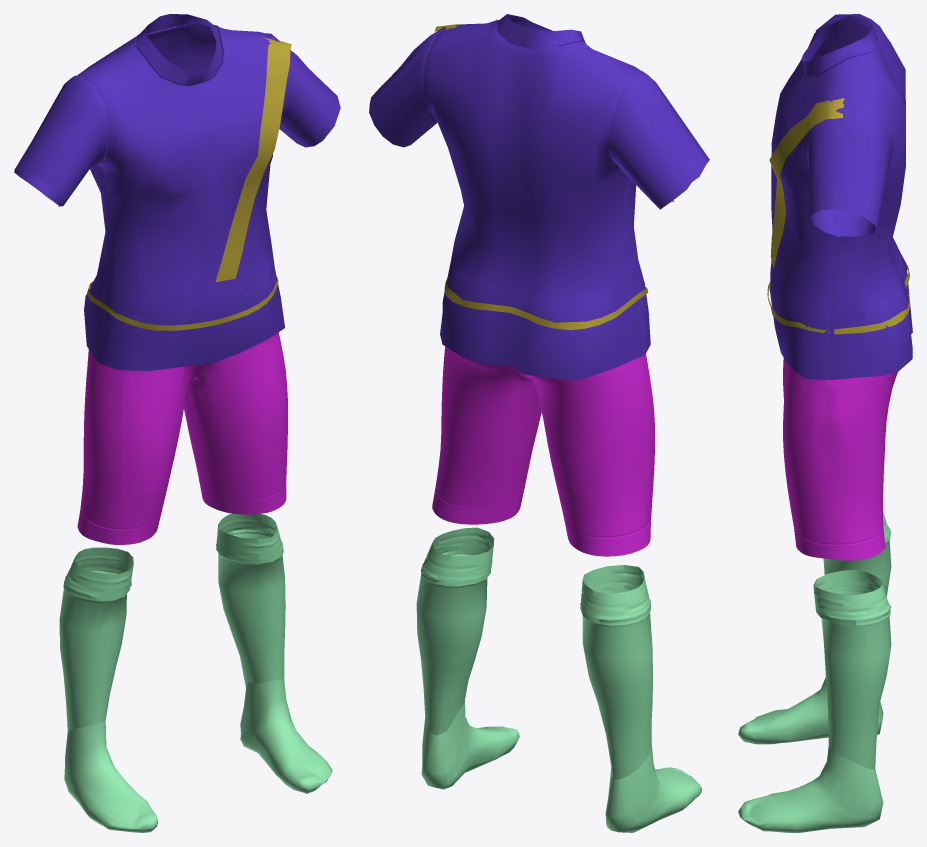
The model's file is full-kit.glb.
The picture shows the model from 3 angles, left to right: view 1: azimuth 30°, elevation 25°; view 2: azimuth 150°, elevation 25°; view 3: azimuth 270°, elevation 25°; orthographic projection. The views are drawn at different scales.
Visible parts, largest first — view 1: shirt-primary, short-primary, socks-primary, socks-secondary, short-secondary, shirt-secondary, shirt-accent2, socks-accent1, shirt-accent1, short-accent1, socks-accent2; view 2: shirt-primary, short-primary, socks-primary, socks-secondary, shirt-secondary, short-secondary, socks-accent1, short-accent1, shirt-accent1, shirt-accent2, socks-accent2; view 3: shirt-primary, short-primary, socks-secondary, socks-primary, shirt-accent2, socks-accent1, shirt-accent1, short-accent1, shirt-secondary, socks-accent2.
Boxes of the visible parts, x1,y1,x2,y2 form: shirt-primary: (77,21,340,370); short-primary: (83,283,287,502); socks-primary: (59,533,285,730); socks-secondary: (64,678,332,832); short-secondary: (79,354,183,533); shirt-secondary: (14,75,108,206); shirt-accent2: (87,37,291,330); socks-accent1: (63,515,283,601); shirt-accent1: (137,14,222,85); short-accent1: (77,486,286,544); socks-accent2: (73,513,279,596); shirt-primary: (369,19,650,379); short-primary: (434,346,633,511); socks-primary: (416,551,652,779); socks-secondary: (421,700,701,832); shirt-secondary: (607,70,709,209); short-secondary: (555,353,654,542); socks-accent1: (421,532,650,625); short-accent1: (432,493,650,556); shirt-accent1: (497,14,585,51); shirt-accent2: (434,24,648,330); socks-accent2: (425,527,645,615); shirt-primary: (770,14,912,380); short-primary: (777,297,897,547); socks-secondary: (738,677,883,832); socks-primary: (821,540,891,769); shirt-accent2: (767,98,910,334); socks-accent1: (814,515,891,625); shirt-accent1: (801,14,877,76); short-accent1: (794,531,885,560); shirt-secondary: (810,14,885,60); socks-accent2: (813,512,888,612).
Bounding box in the file's own units: 2.4 × 5.52 × 1.15.
